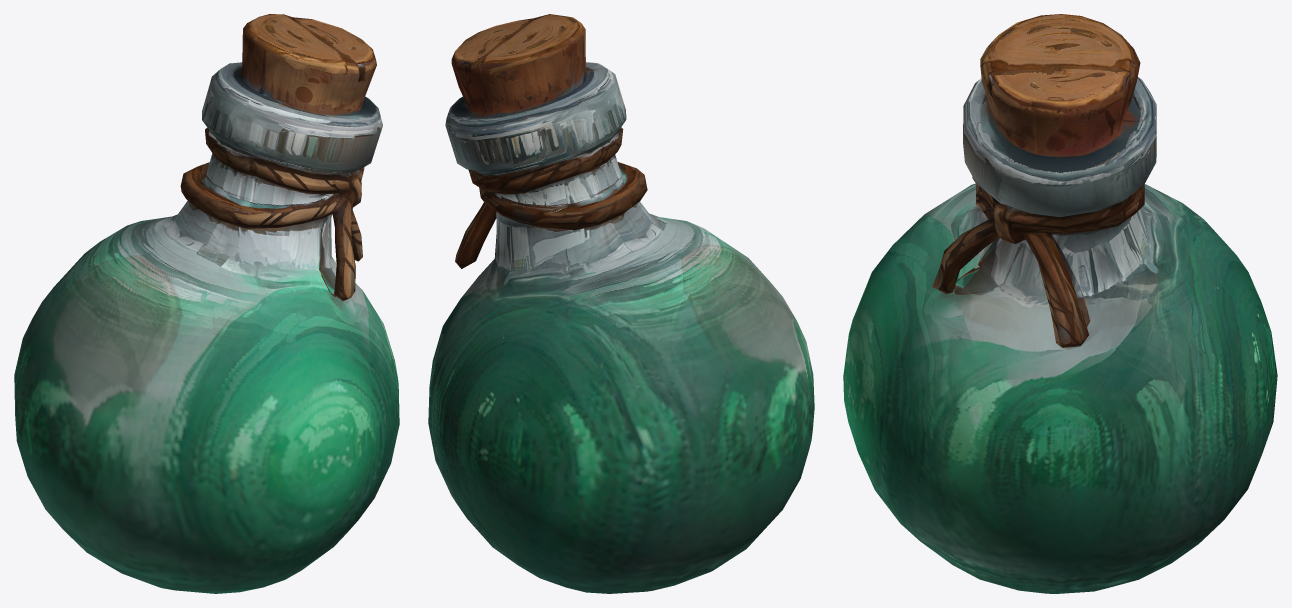
Rendered from Prop_Potion.fbx.
3 views of the same model, side by side, from view 1: azimuth 30°, elevation 25°; view 2: azimuth 150°, elevation 25°; view 3: azimuth 270°, elevation 25° (orthographic). The views are drawn at different scales.
Parts seen in each view (by area): view 1: texture_mapping; view 2: texture_mapping; view 3: texture_mapping.
Boxes of the visible parts, x1=… form: texture_mapping: x1=14, y1=14, x2=399, y2=593; texture_mapping: x1=428, y1=14, x2=814, y2=593; texture_mapping: x1=843, y1=14, x2=1277, y2=593.
Size of the model in its own units: 0.6741 by 0.6736 by 1.
1 material, 1 textured.
